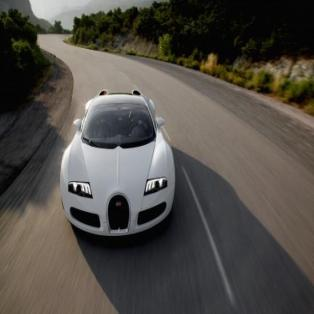Auto: (61, 87, 175, 237)
